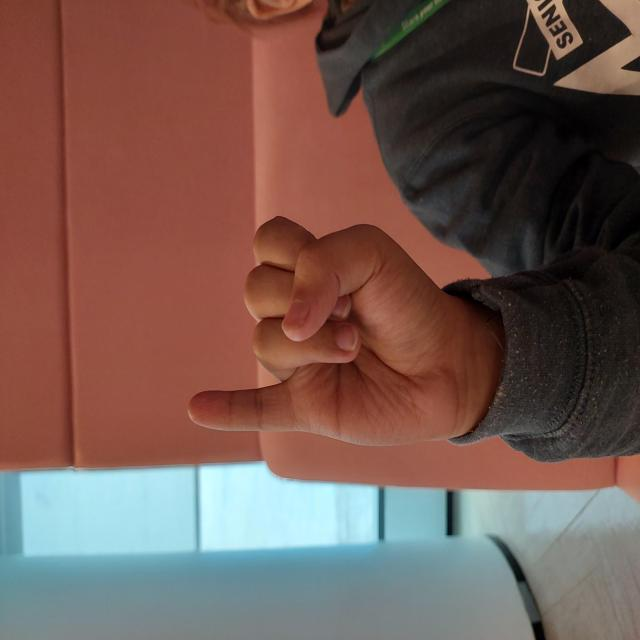I: (186, 183, 434, 477)
